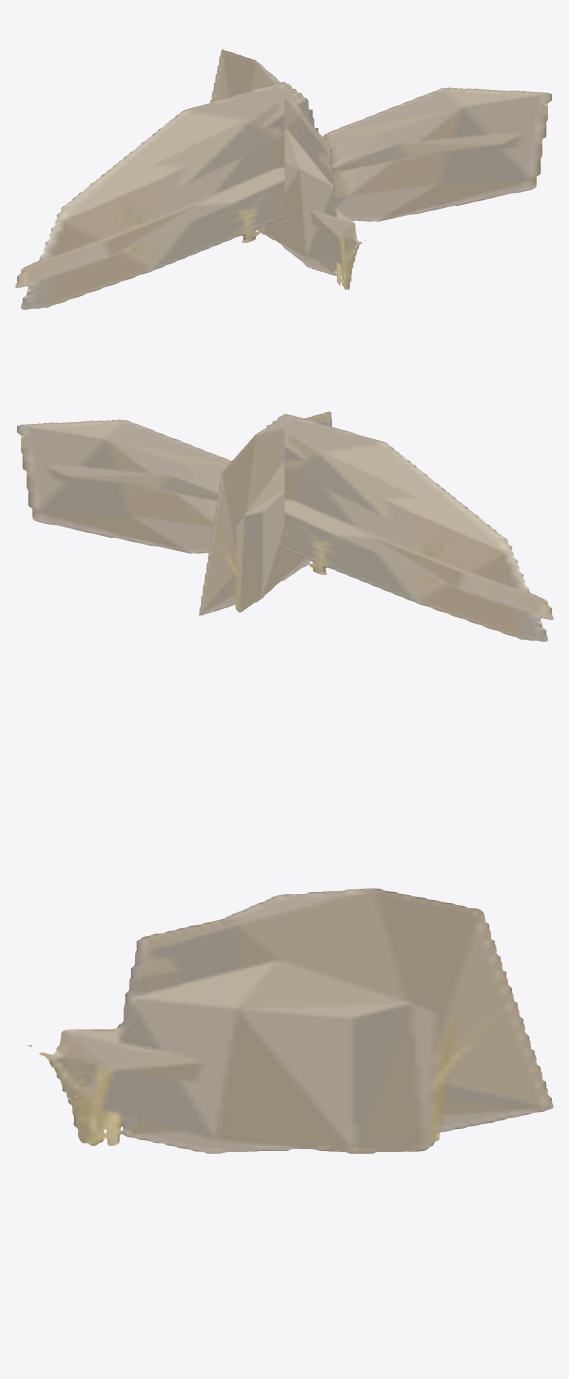
Rendered from c02-far.glb.
3 renders of one model, top to bottom at view 1: azimuth 30°, elevation 25°; view 2: azimuth 150°, elevation 25°; view 3: azimuth 270°, elevation 25°, orthographic. The views are drawn at different scales.
Size of the model in its own units: 1.3 by 0.3944 by 0.715.
Materials: 1 (1 with a texture image).
